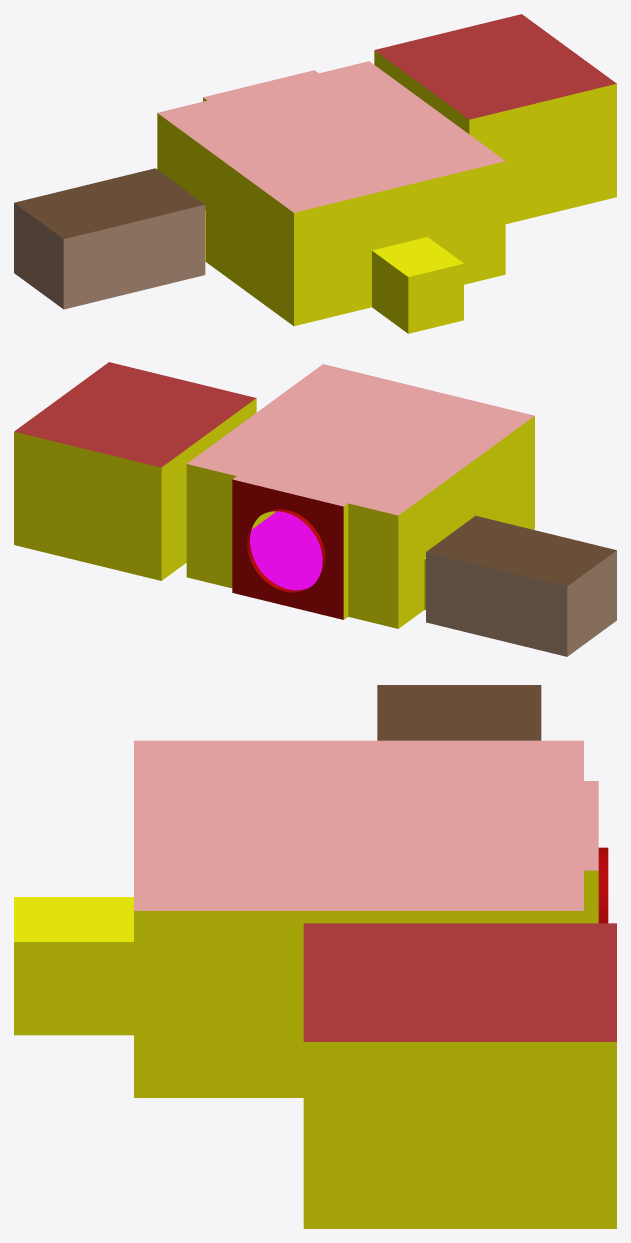
File: _ntitled.fbx
3 renders of one model, top to bottom at view 1: azimuth 30°, elevation 25°; view 2: azimuth 150°, elevation 25°; view 3: azimuth 270°, elevation 25°, orthographic. The views are drawn at different scales.
Parts seen in each view (by area): view 1: pCube2; view 2: pCube2; view 3: pCube2.
Part boxes in pixels (x1,y1,x2,y2): pCube2: (14,14,616,333); pCube2: (14,362,616,656); pCube2: (14,685,616,1228).
Bounding box in the file's own units: 3948 × 807 × 2358.
